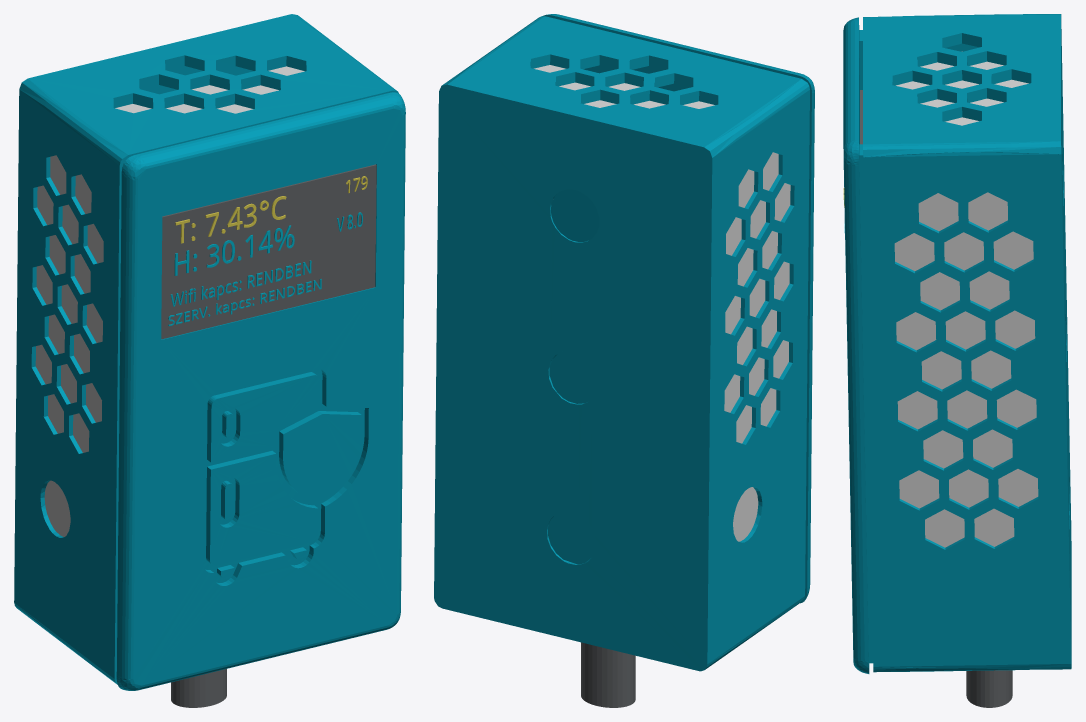
File: kek_kek.glb
3 views of the same model, side by side, from view 1: azimuth 30°, elevation 25°; view 2: azimuth 150°, elevation 25°; view 3: azimuth 270°, elevation 25° (orthographic). The views are drawn at different scales.
Parts seen in each view (by area): view 1: Mesh_Mesh_head_geo.001_lambert2SG.001; view 2: Mesh_Mesh_head_geo.001_lambert2SG.001; view 3: Mesh_Mesh_head_geo.001_lambert2SG.001.
Boxes of the visible parts, x1,y1,x2,y2 form: Mesh_Mesh_head_geo.001_lambert2SG.001: (14, 14, 405, 707); Mesh_Mesh_head_geo.001_lambert2SG.001: (434, 14, 814, 707); Mesh_Mesh_head_geo.001_lambert2SG.001: (843, 14, 1071, 707).
Bounding box in the file's own units: 33 × 70.15 × 23.52.
